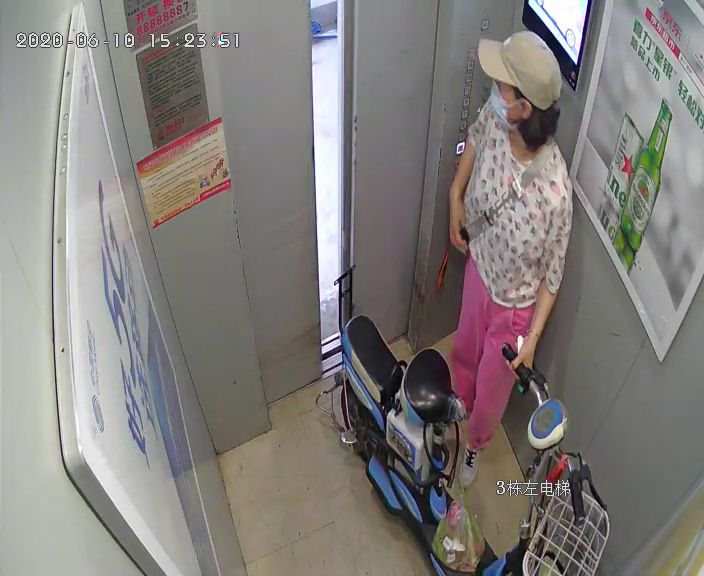Electric-bicycle: (318, 267, 605, 574)
